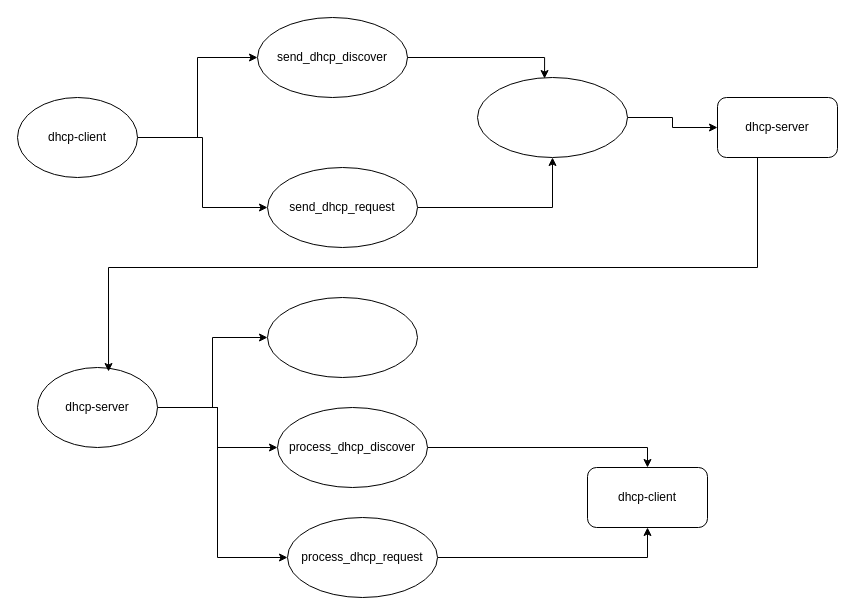
The diagram is 855 pixels wide and 615 high, and some of its shapes have lost their labels. The shapes that lost their labels are listed below. From the top down, each one's centre as x and y in pixels, then its label:
At [552,117]: "socket_send_broadcast".
At [342,337]: "bind port 67".
